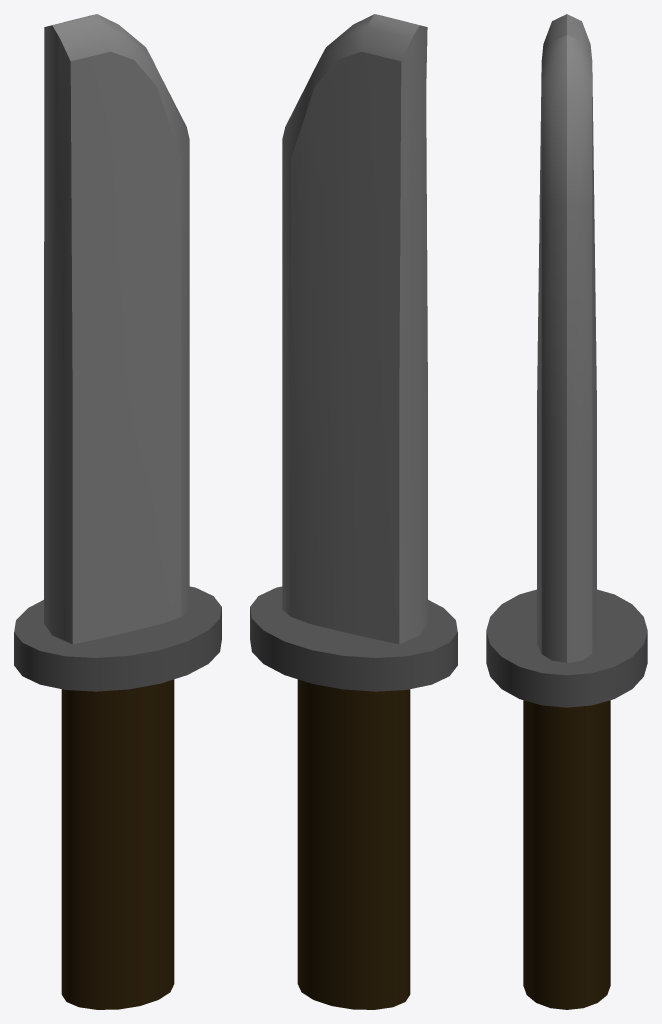
File: Dagger.obj
3 renders of one model, left to right at view 1: azimuth 30°, elevation 25°; view 2: azimuth 150°, elevation 25°; view 3: azimuth 270°, elevation 25°, orthographic. The views are drawn at different scales.
Visible parts, largest first — view 1: Cross_Guard1; view 2: Cross_Guard1; view 3: Cross_Guard1.
Boxes of the visible parts, x1=… form: Cross_Guard1: x1=14, y1=14, x2=221, y2=1009; Cross_Guard1: x1=250, y1=14, x2=457, y2=1009; Cross_Guard1: x1=486, y1=14, x2=647, y2=1009.
Bounding box in the file's own units: 0.1189 × 0.583 × 0.0907.
